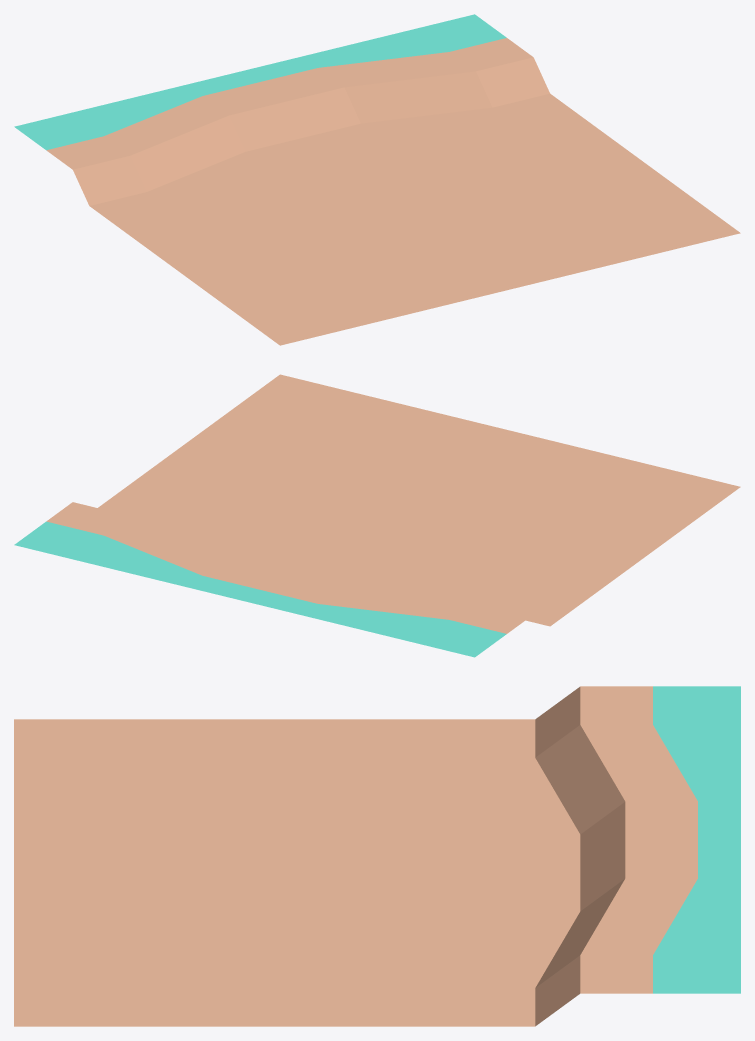
The model's file is kenney-nature-ground-path-side.glb.
The picture shows the model from 3 angles, top to bottom: view 1: azimuth 30°, elevation 25°; view 2: azimuth 150°, elevation 25°; view 3: azimuth 270°, elevation 25°; orthographic projection. The views are drawn at different scales.
Visible parts, largest first — view 1: ground_pathSide; view 2: ground_pathSide; view 3: ground_pathSide.
Boxes of the visible parts, bbox=[...] form: ground_pathSide: bbox=[14, 14, 740, 345]; ground_pathSide: bbox=[14, 374, 740, 657]; ground_pathSide: bbox=[14, 686, 740, 1026].
Bounding box in the file's own units: 1 × 0.0501 × 1.
